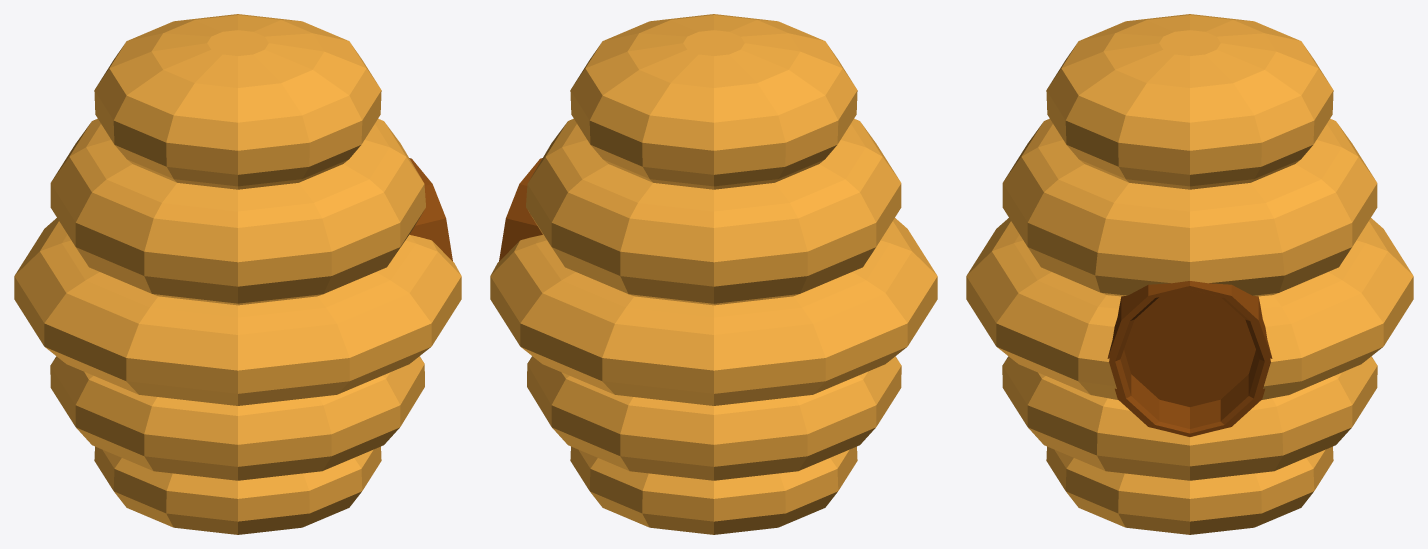
File: bee_honeycomb2.glb
3 renders of one model, left to right at view 1: azimuth 30°, elevation 25°; view 2: azimuth 150°, elevation 25°; view 3: azimuth 270°, elevation 25°, orthographic.
Visible parts, largest first — view 1: bee_honeycomb2; view 2: bee_honeycomb2; view 3: bee_honeycomb2.
Part boxes in pixels (x1=…): bee_honeycomb2: x1=14, y1=14, x2=461, y2=534; bee_honeycomb2: x1=490, y1=14, x2=937, y2=534; bee_honeycomb2: x1=966, y1=14, x2=1413, y2=534.
Bounding box in the file's own units: 1.94 × 2.28 × 2.02.
1 material, 1 textured.
